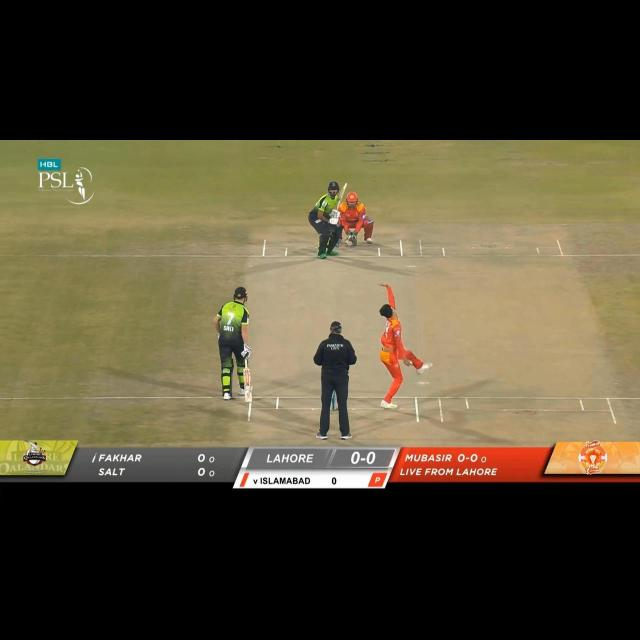bat: (336, 182, 348, 212), (242, 370, 252, 403)
toe: (339, 182, 348, 196), (243, 393, 253, 404)
